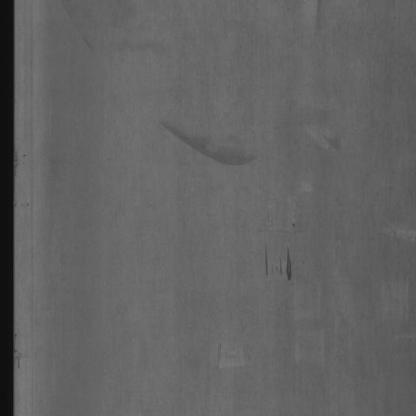inclusion: (283, 232, 296, 284)
water_spot: (136, 97, 266, 181)
